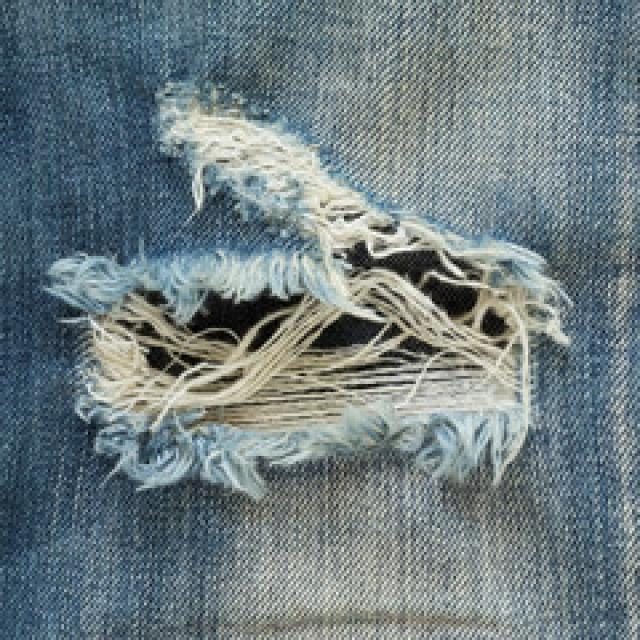Hole: (47, 82, 571, 500)
